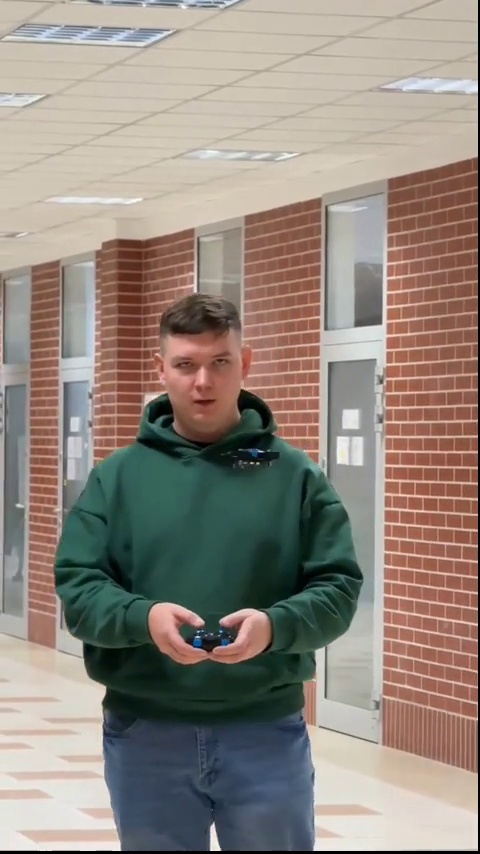drone: (221, 445, 279, 467)
no vest: (64, 298, 362, 830)
